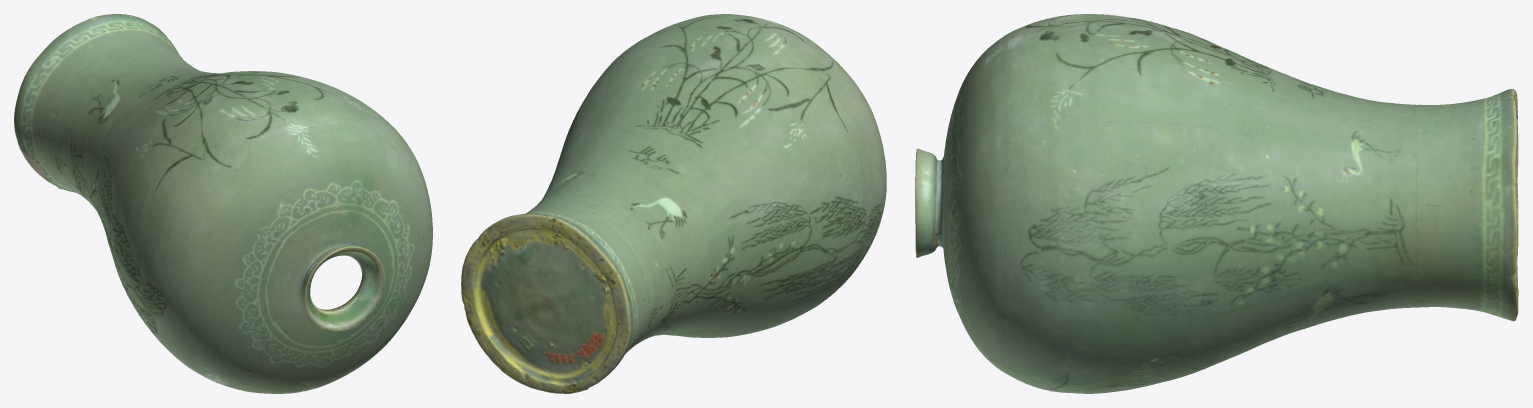
The model's file is celadon-maebyeong.glb.
3 renders of one model, left to right at view 1: azimuth 30°, elevation 25°; view 2: azimuth 150°, elevation 25°; view 3: azimuth 270°, elevation 25°, orthographic. The views are drawn at different scales.
Parts seen in each view (by area): view 1: duk005382-000-30000; view 2: duk005382-000-30000; view 3: duk005382-000-30000.
Part boxes in pixels (box(x1,y1,x2,y2)): duk005382-000-30000: box(14, 14, 432, 393); duk005382-000-30000: box(461, 14, 886, 393); duk005382-000-30000: box(915, 14, 1518, 393).
Bounding box in the file's own units: 178 × 178 × 284.
Materials: 1 (1 with a texture image).
